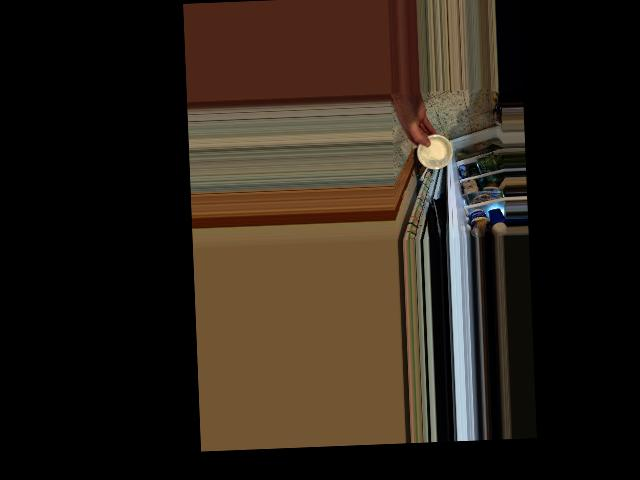cotage: (414, 132, 448, 168)
